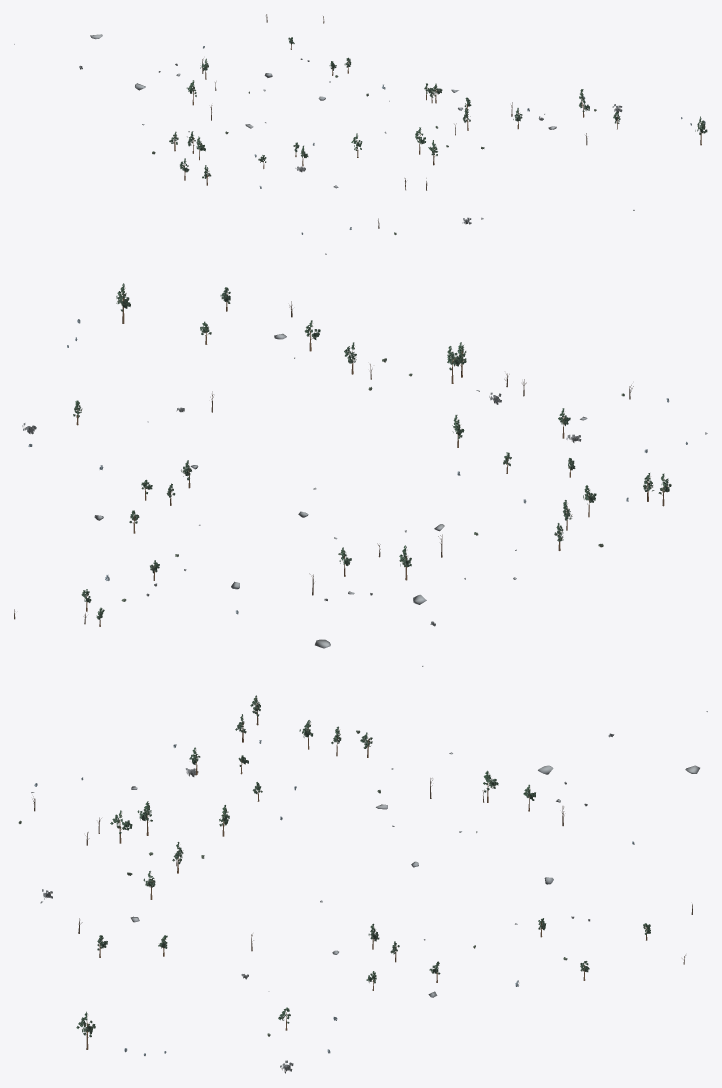
Rendered from frost_land_scatter_c13_12.glb.
The picture shows the model from 3 angles, top to bottom: view 1: azimuth 30°, elevation 25°; view 2: azimuth 150°, elevation 25°; view 3: azimuth 270°, elevation 25°; orthographic projection. The views are drawn at different scales.
Visible parts, largest first — view 1: frost_land_scatter_c13_12; view 2: frost_land_scatter_c13_12; view 3: frost_land_scatter_c13_12.
Boxes of the visible parts, x1,y1,x2,y2 form: frost_land_scatter_c13_12: (14,14,707,254); frost_land_scatter_c13_12: (14,283,707,666); frost_land_scatter_c13_12: (18,695,707,1073).
Size of the model in its own units: 256 by 46.8 by 246.
